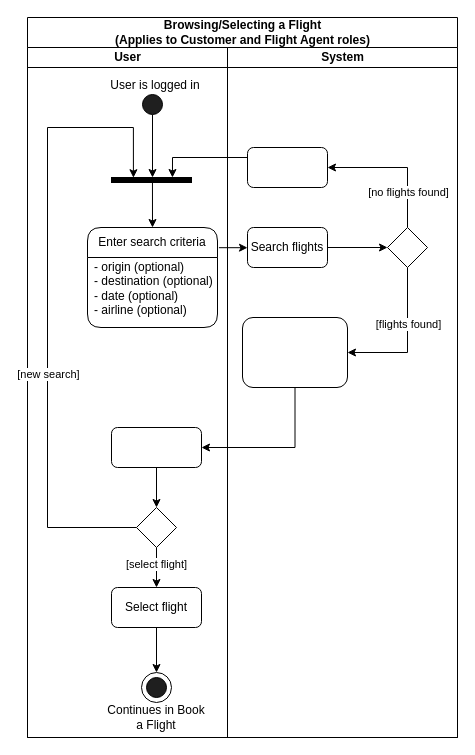
This 475x755 diagram has some shape labels left out. The centre of each missing label's shape, as x and y in pixels:
Display matching flights and details (future flights only): point (295, 352)
Review results: point (156, 447)
Show "not found": point (287, 167)
